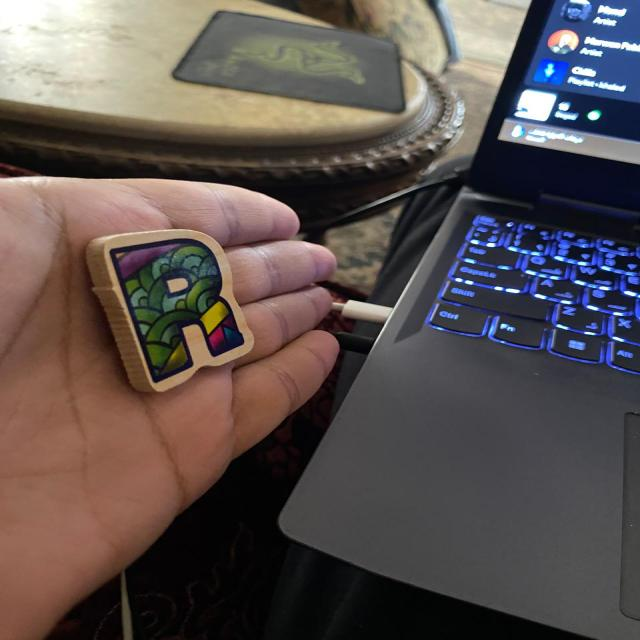R: (87, 230, 253, 392)
